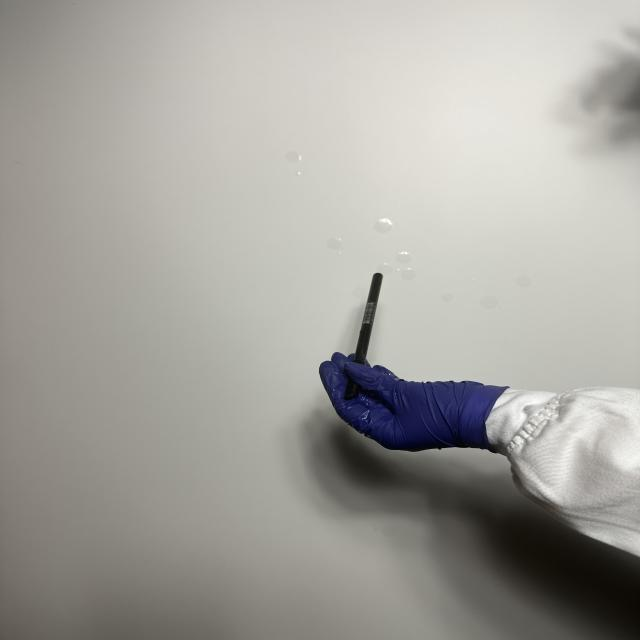gloves_contaminated: (320, 353, 508, 451)
